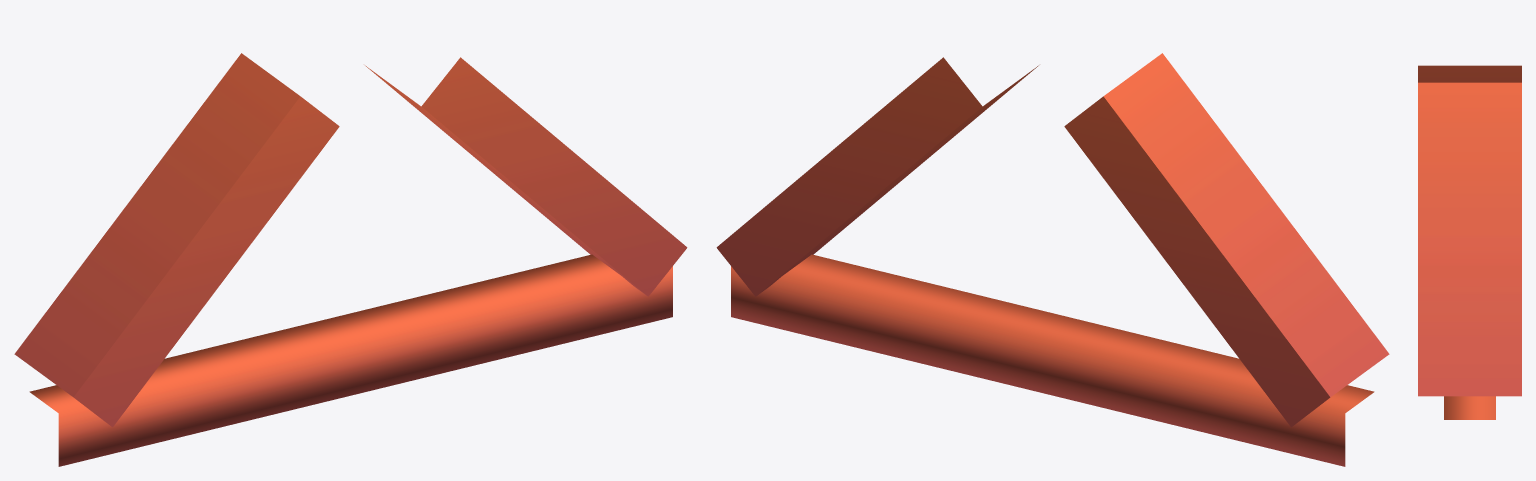
The model's file is kenney-coaster-coaster-hanging-segment.glb.
3 renders of one model, left to right at view 1: azimuth 30°, elevation 25°; view 2: azimuth 150°, elevation 25°; view 3: azimuth 270°, elevation 25°, orthographic. The views are drawn at different scales.
Visible parts, largest first — view 1: coaster-hanging-segment; view 2: coaster-hanging-segment; view 3: coaster-hanging-segment.
Part boxes in pixels (x1,y1,x2,y2): coaster-hanging-segment: [14, 53, 687, 466]; coaster-hanging-segment: [716, 53, 1389, 466]; coaster-hanging-segment: [1418, 65, 1521, 419].
Bounding box in the file's own units: 0.6 × 0.3044 × 0.1.
1 material, 1 textured.
